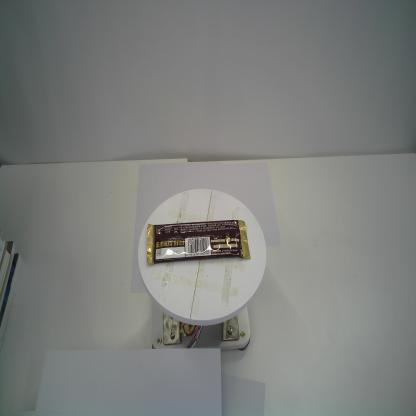Chocolate: (144, 218, 251, 266)
